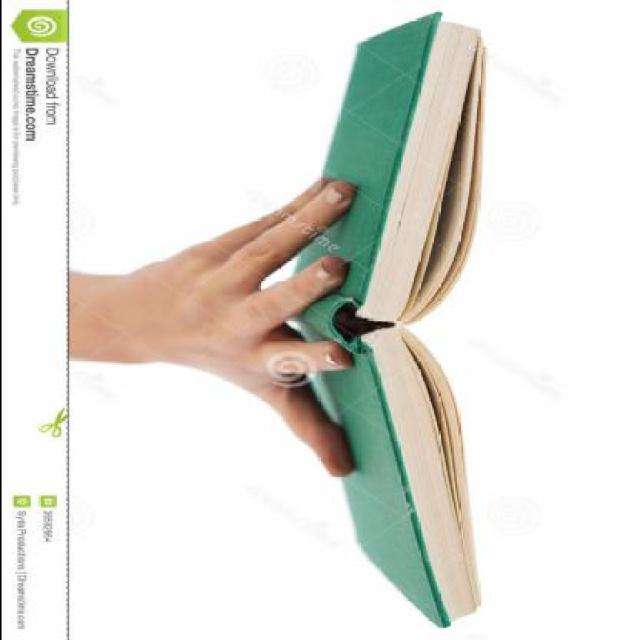book: (270, 14, 556, 622)
